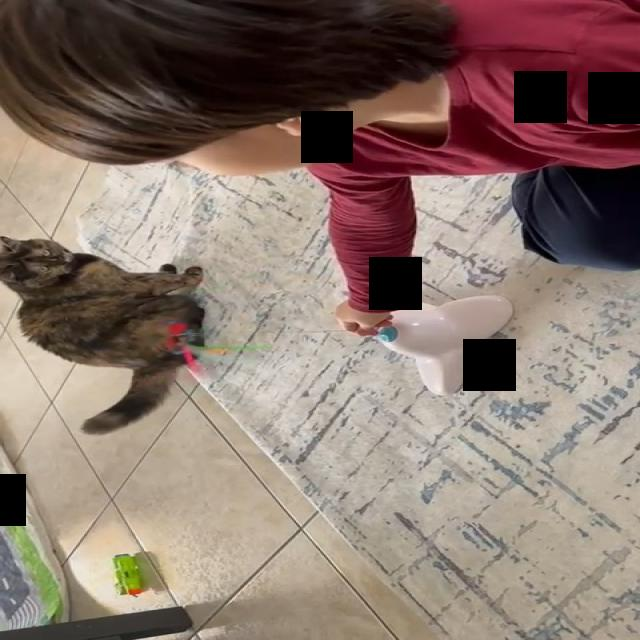authorized: (0, 235, 207, 434)
